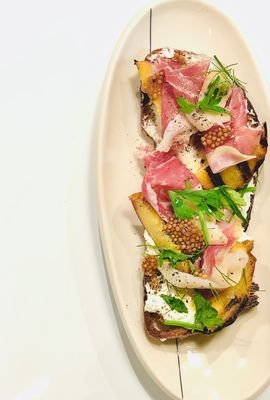sandwich: (128, 31, 269, 343)
